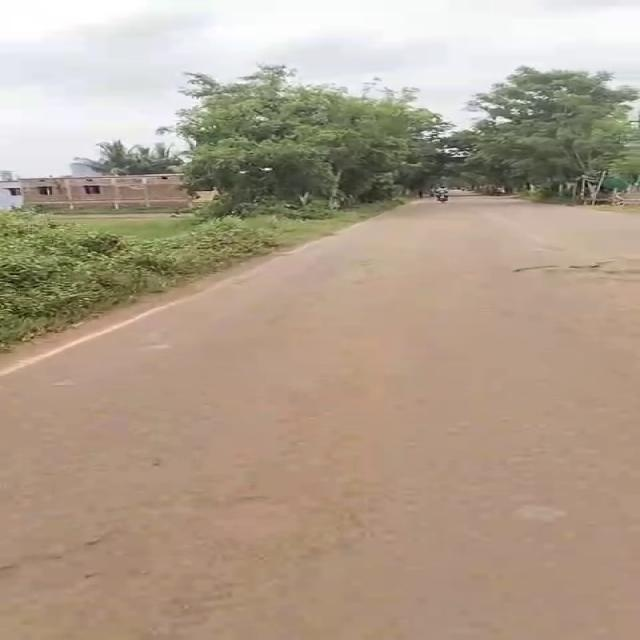pothole: (506, 253, 640, 286)
